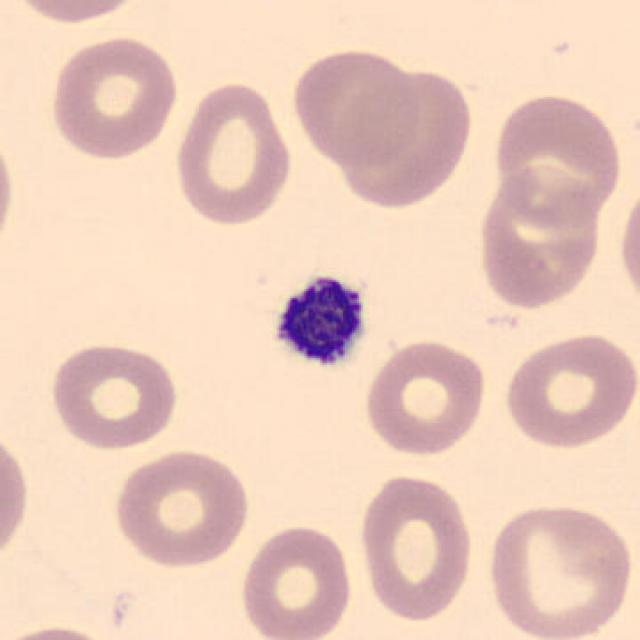Platelets: (260, 263, 375, 381)
RBC: (480, 497, 635, 640), (336, 63, 476, 210), (473, 164, 608, 314), (171, 76, 297, 229), (354, 469, 478, 624), (489, 88, 626, 228), (108, 444, 254, 572), (45, 32, 183, 162), (498, 328, 638, 451), (288, 44, 425, 169), (359, 335, 491, 460), (45, 338, 183, 452), (235, 520, 357, 640), (0, 425, 32, 569), (3, 0, 151, 26), (615, 180, 640, 312), (0, 122, 18, 264), (0, 620, 124, 640)
